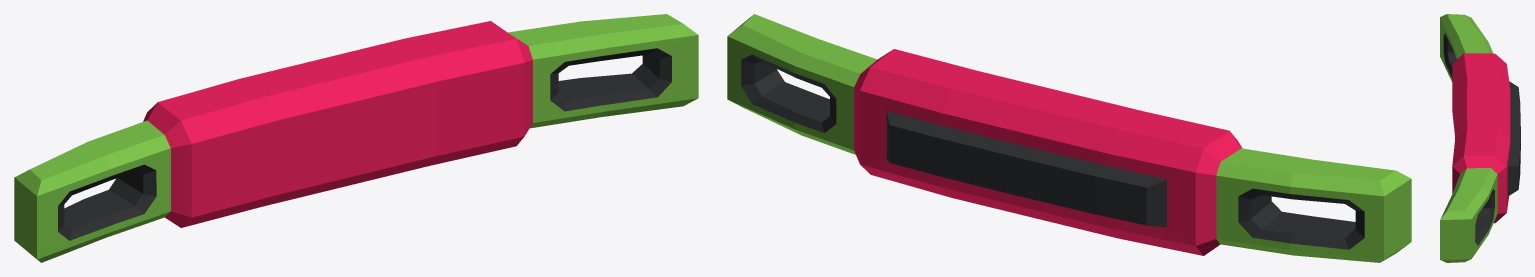
File: SM_Veh_Kart_01_Rear_Bumper_04.fbx
3 renders of one model, left to right at view 1: azimuth 30°, elevation 25°; view 2: azimuth 150°, elevation 25°; view 3: azimuth 270°, elevation 25°, orthographic. The views are drawn at different scales.
Parts seen in each view (by area): view 1: SM_Veh_Kart_01_Rear_Bumper_04; view 2: SM_Veh_Kart_01_Rear_Bumper_04; view 3: SM_Veh_Kart_01_Rear_Bumper_04.
Part boxes in pixels (bbox=[...]): SM_Veh_Kart_01_Rear_Bumper_04: bbox=[14, 14, 698, 262]; SM_Veh_Kart_01_Rear_Bumper_04: bbox=[727, 14, 1411, 262]; SM_Veh_Kart_01_Rear_Bumper_04: bbox=[1440, 14, 1520, 262].
Bounding box in the file's own units: 132 × 20.92 × 22.25.
